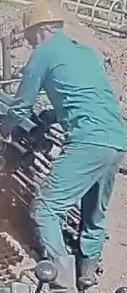helmet: (21, 3, 67, 34)
vest: (27, 35, 127, 156)
